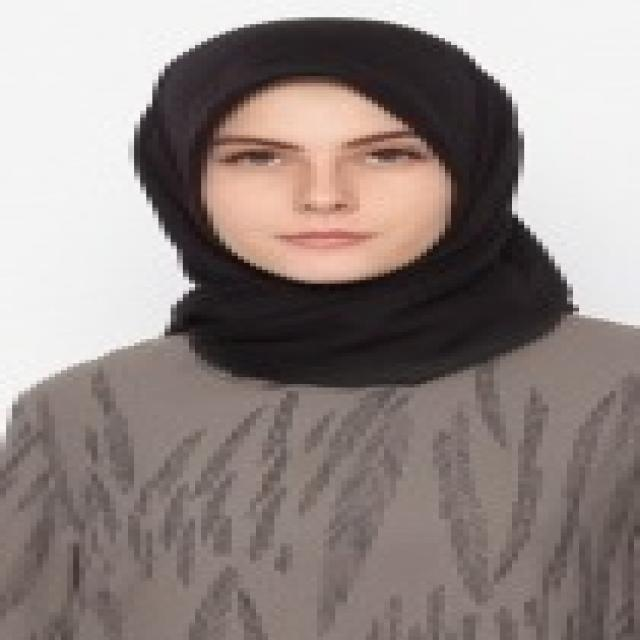head: (131, 12, 556, 307)
